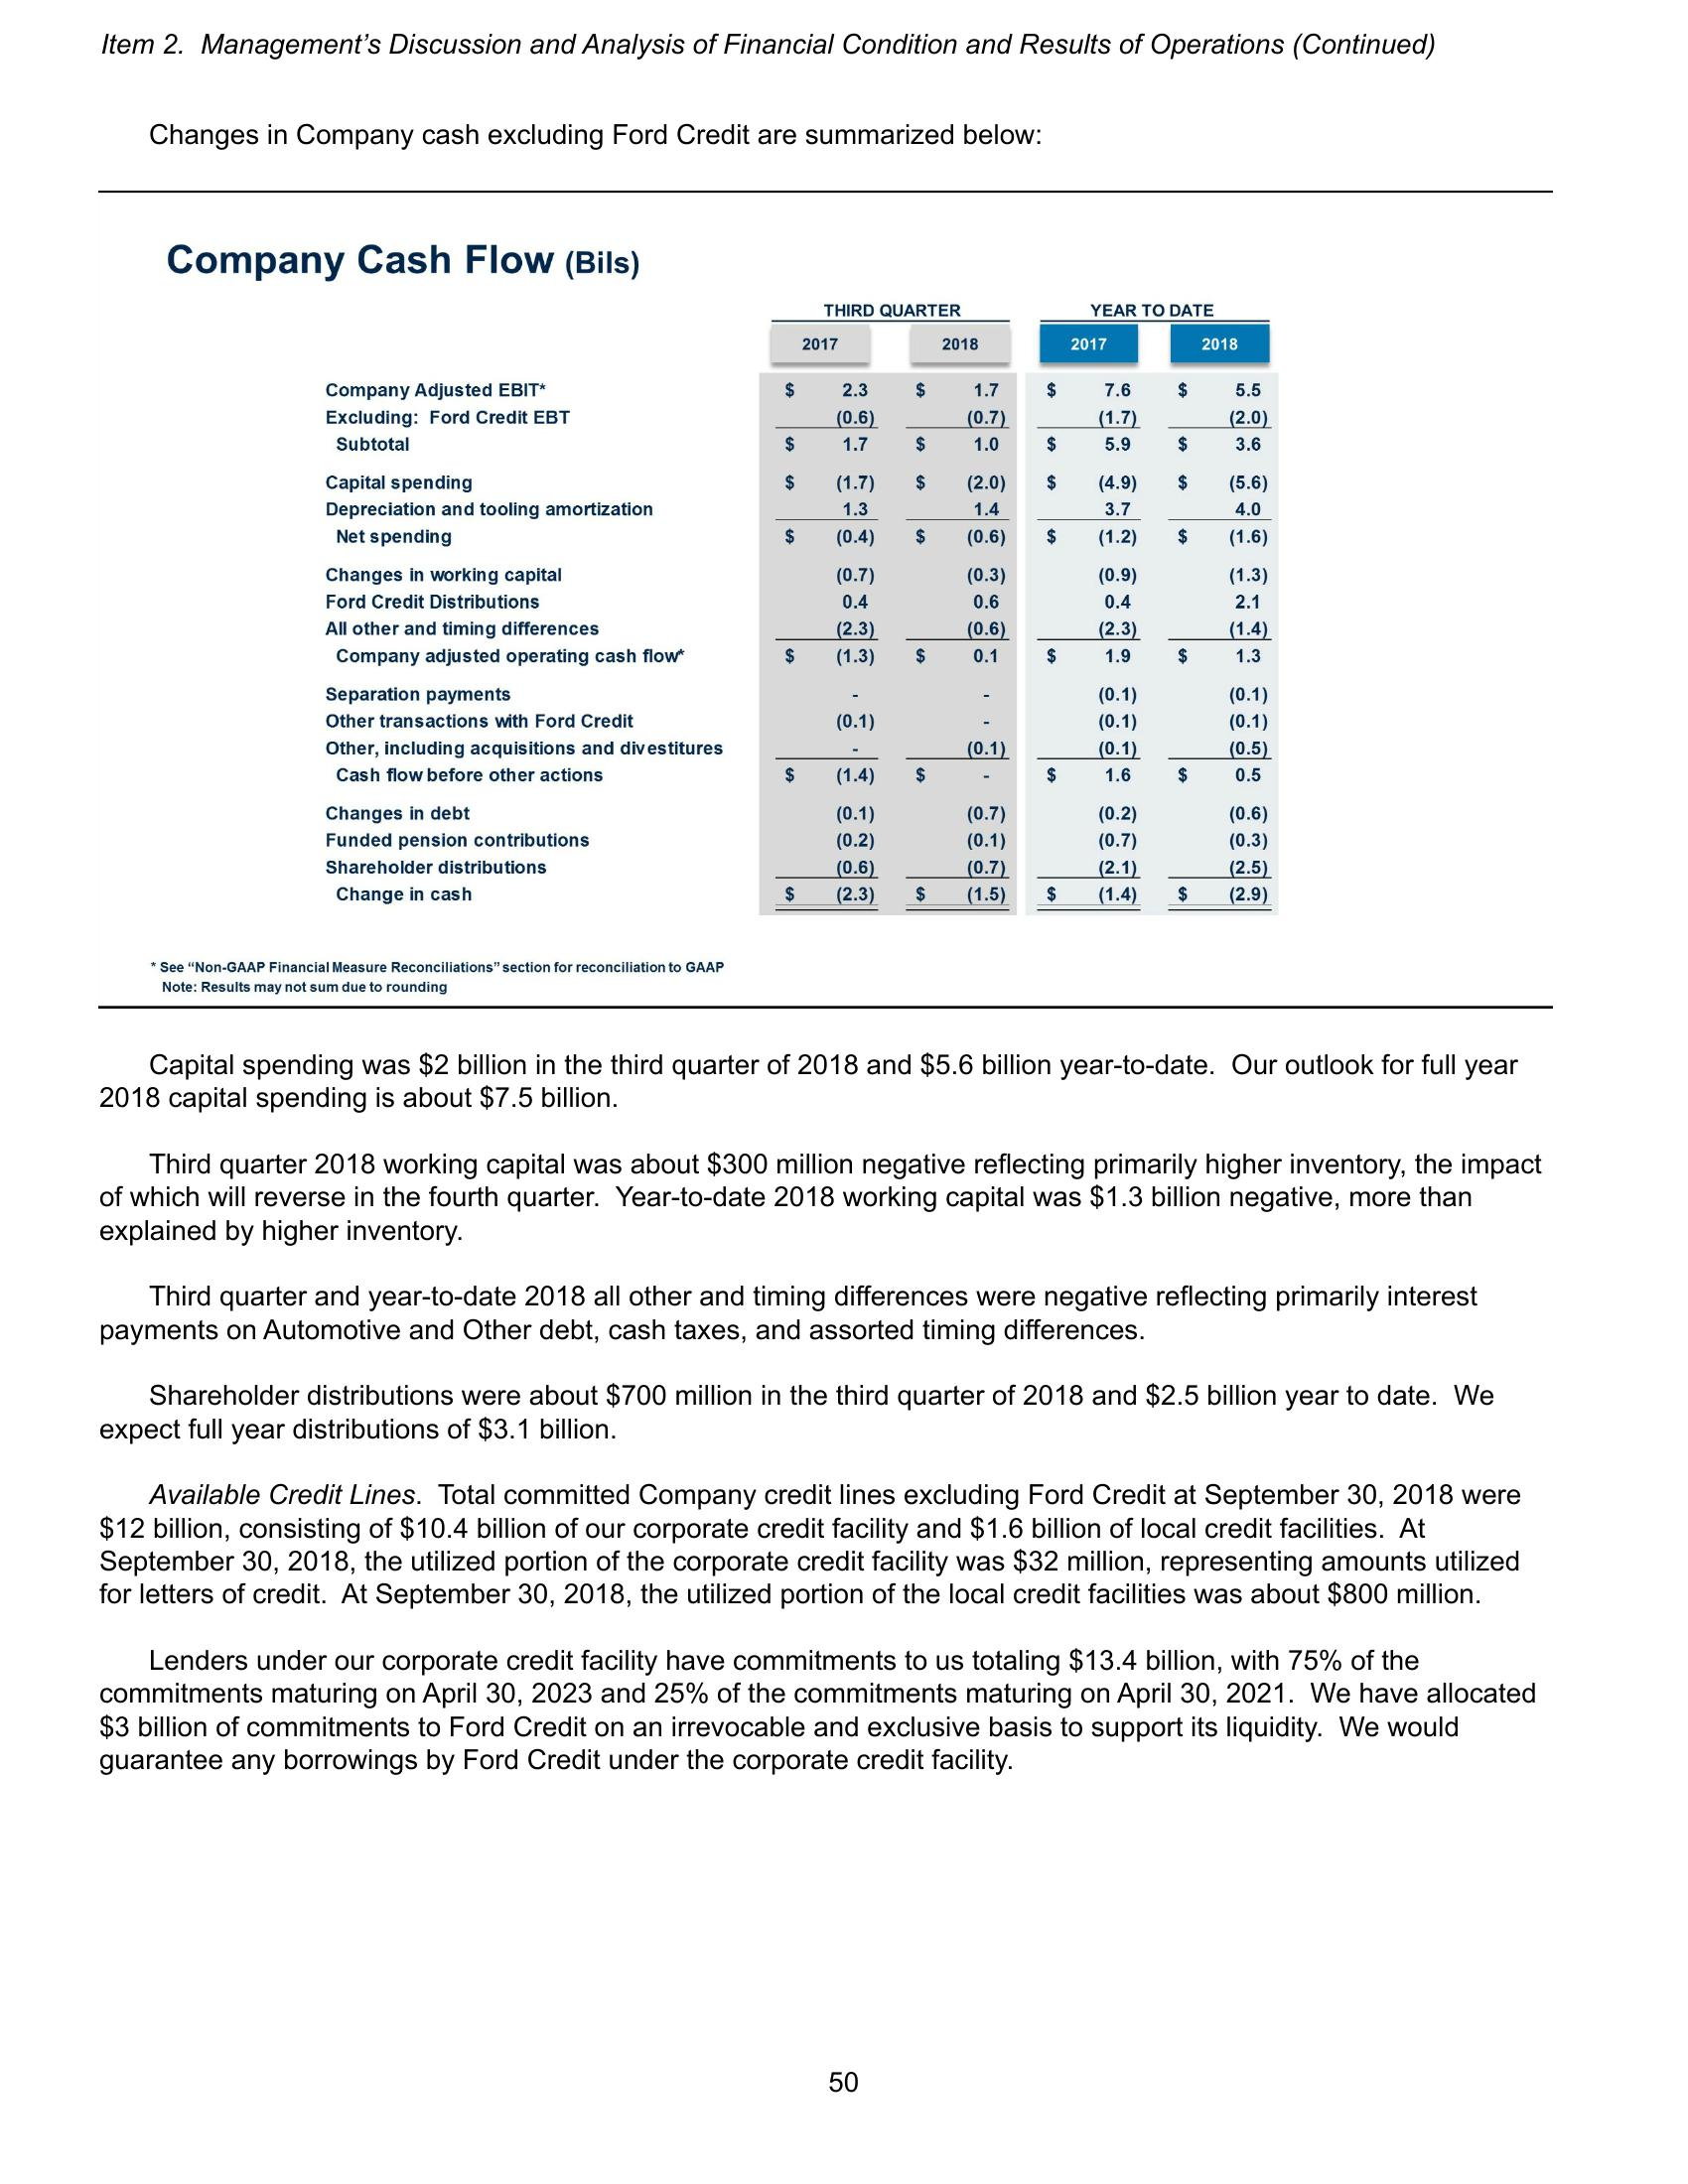table: (317, 292, 1280, 915)
